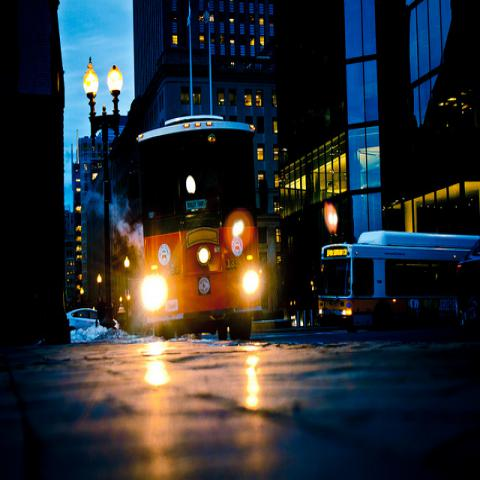bus: (138, 115, 264, 343), (316, 234, 479, 331)
car: (67, 309, 118, 331)
